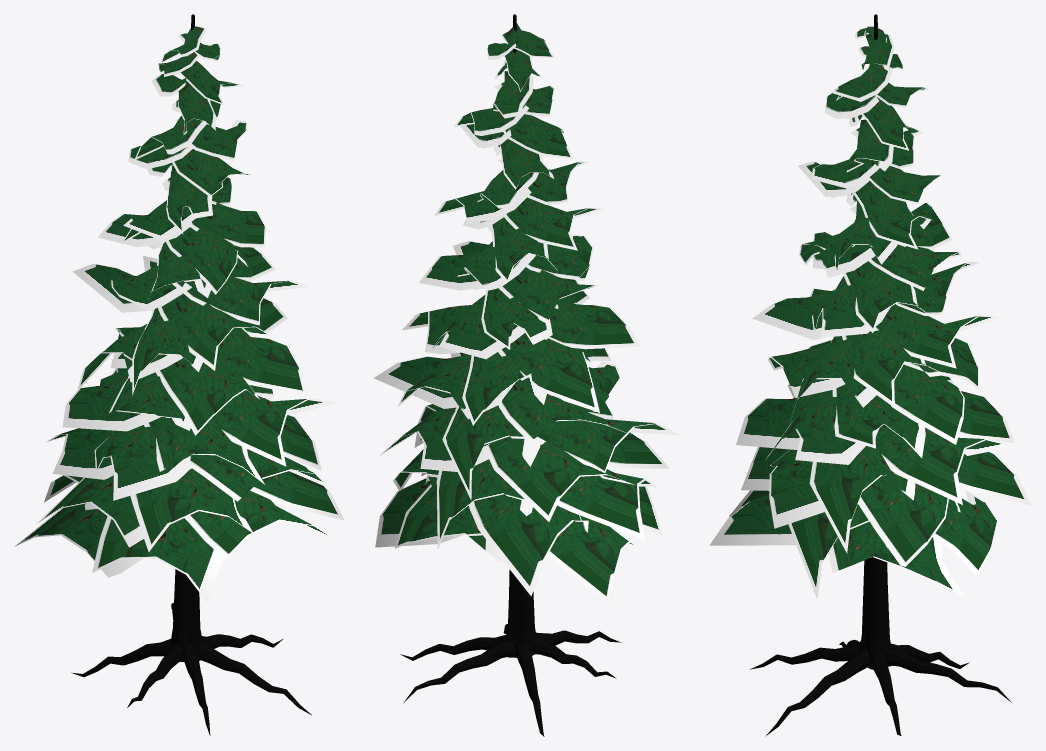
Rendered from Pine_4_LOD0.fbx.
The picture shows the model from 3 angles, left to right: view 1: azimuth 30°, elevation 25°; view 2: azimuth 150°, elevation 25°; view 3: azimuth 270°, elevation 25°; orthographic projection. The views are drawn at different scales.
Parts seen in each view (by area): view 1: Pine_4; view 2: Pine_4; view 3: Pine_4.
Boxes of the visible parts, left/top/right/bottom form: Pine_4: left=14, top=14, right=344, bottom=735; Pine_4: left=373, top=14, right=679, bottom=736; Pine_4: left=709, top=14, right=1031, bottom=736.
Size of the model in its own units: 137 by 332 by 141.
